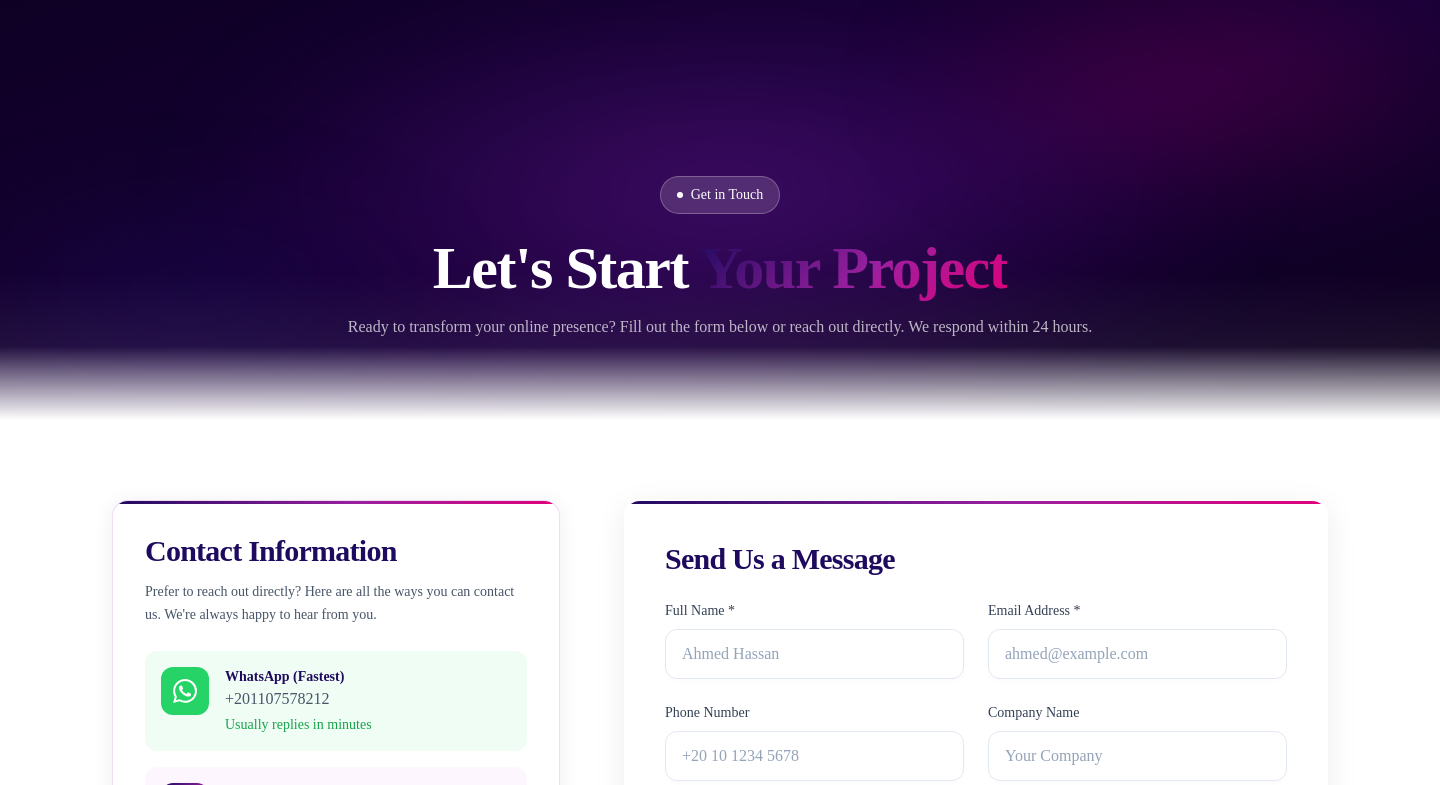
Test: ContactPage client-side validation › Trap: clears a field's error as soon as the user edits that field again, before re-submitting
Type "K" into the field labelled "Full Name *". click: [814, 654]
box: [665,629,964,679]
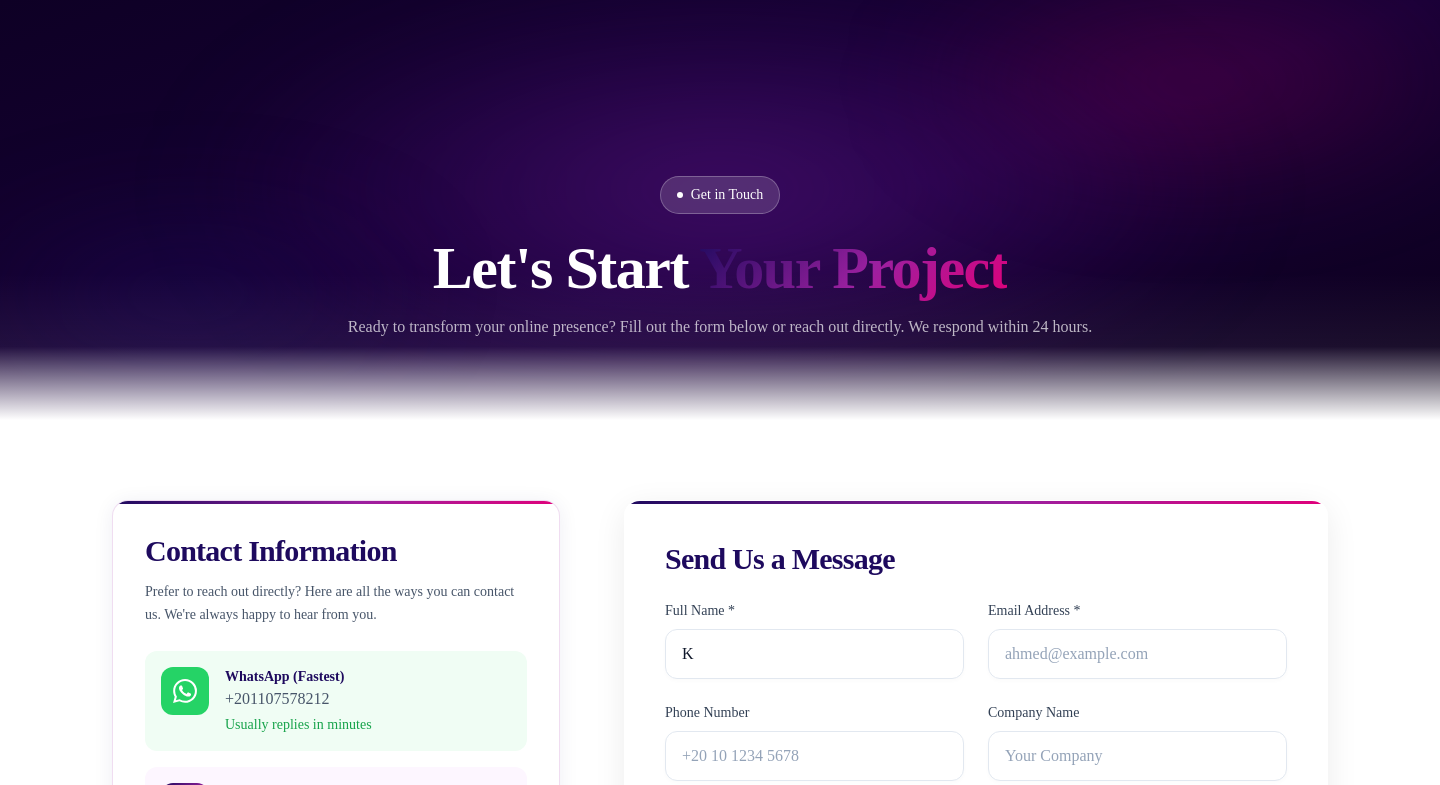
Type "karim@example.com" into the field labelled "Email Address *". click: [1138, 654]
box: [988,629,1287,679]
(page scrolled)
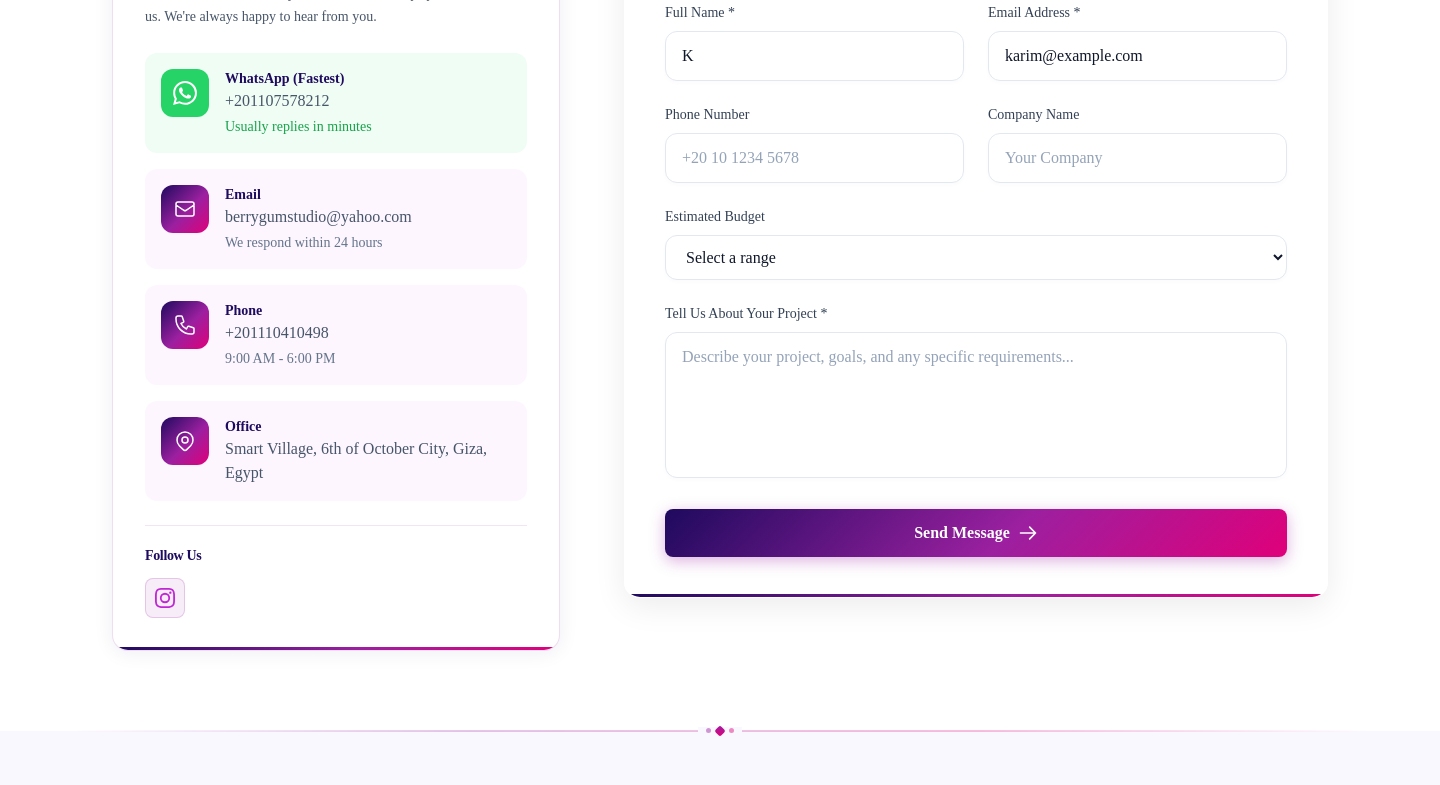
Replace the text in the text box labelled "Tell Us About Your Project *" with "I would like a quote for a new website.". click: [976, 405]
box: [665,332,1287,478]
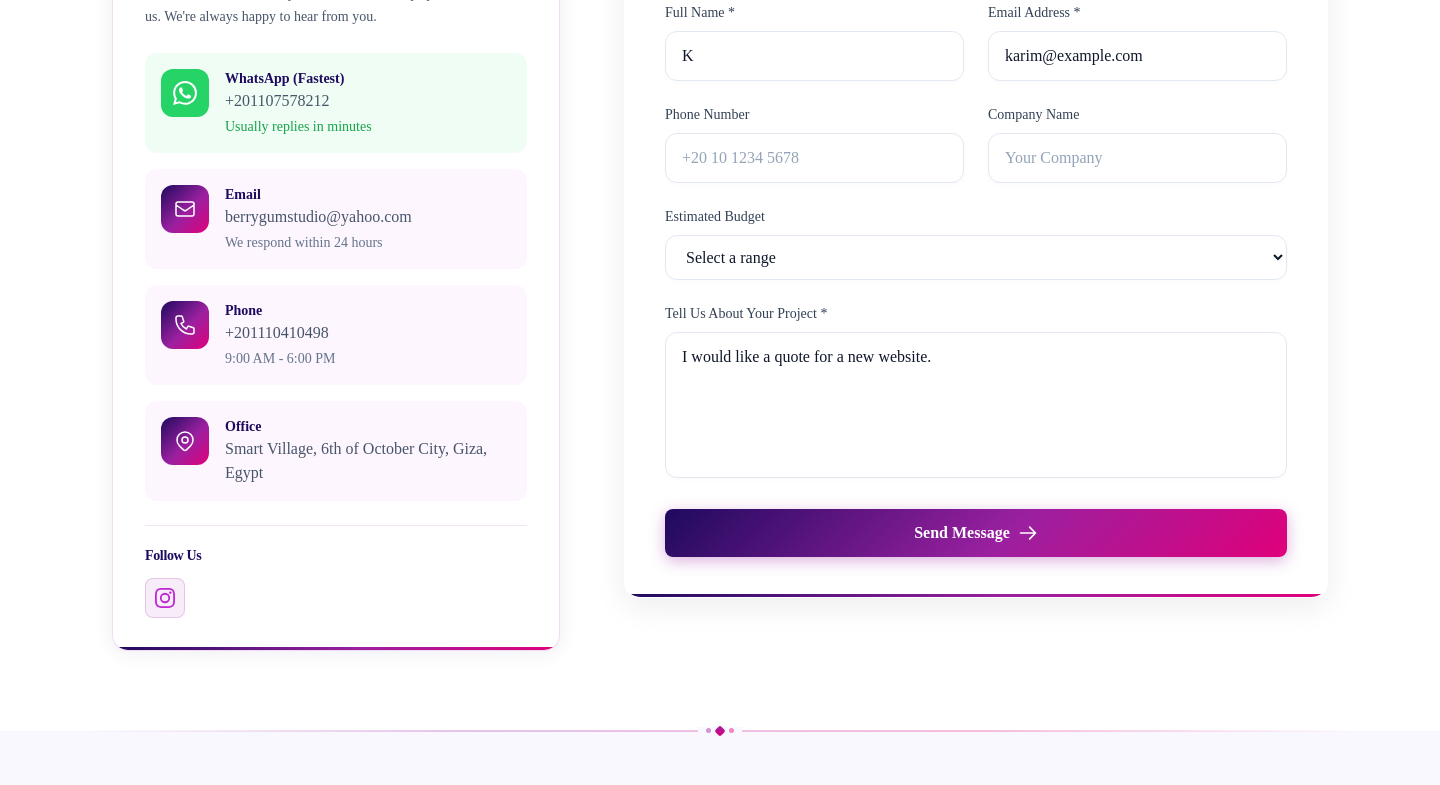
Click the button "Send Message". click: [976, 533]
box: [665,509,1287,557]
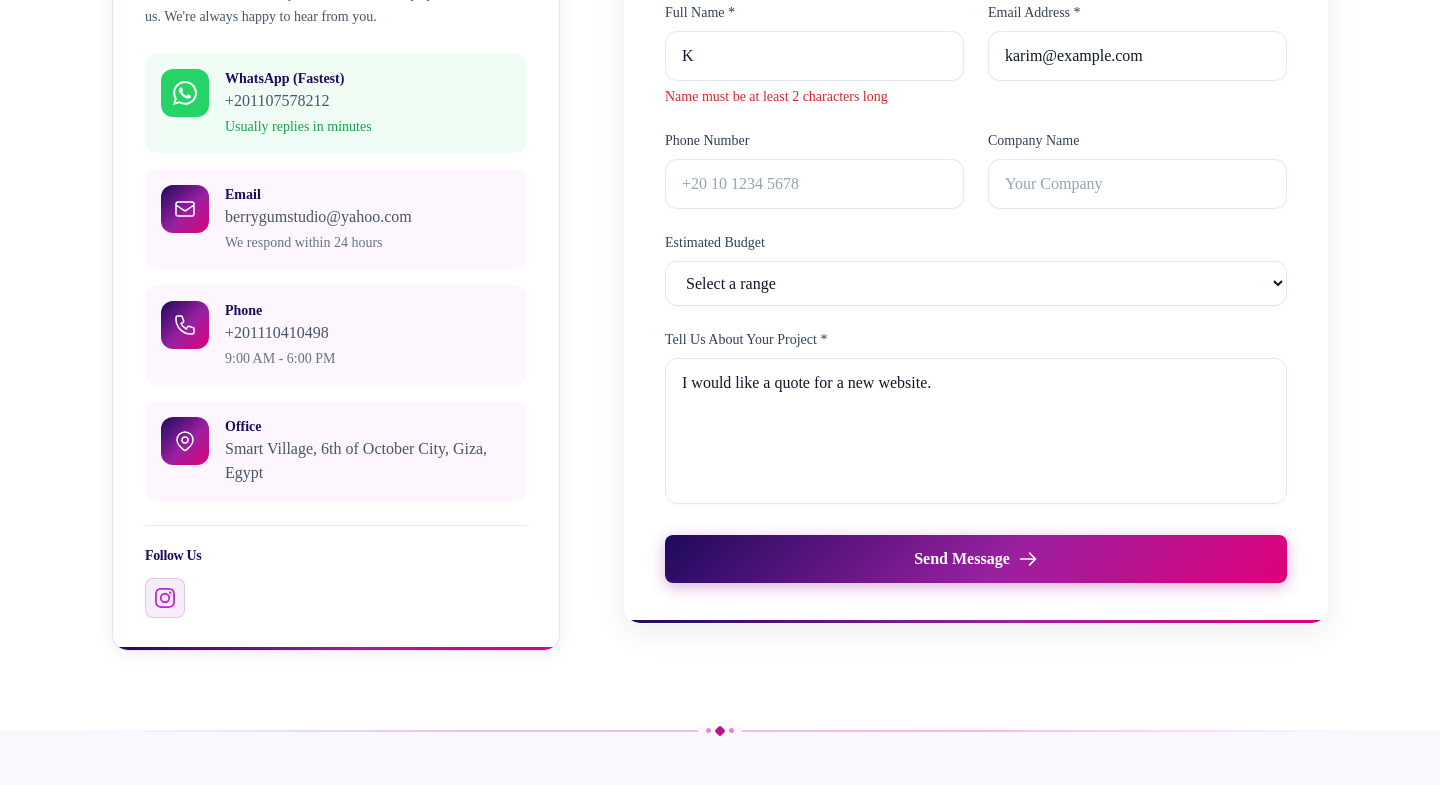
Expected: the text "Name must be at least 2 characters long" is shown, [665,89,888,104]
Replace the text in the field labelled "Full Name *" with "Karim". click: [814, 56]
box: [665,31,964,81]
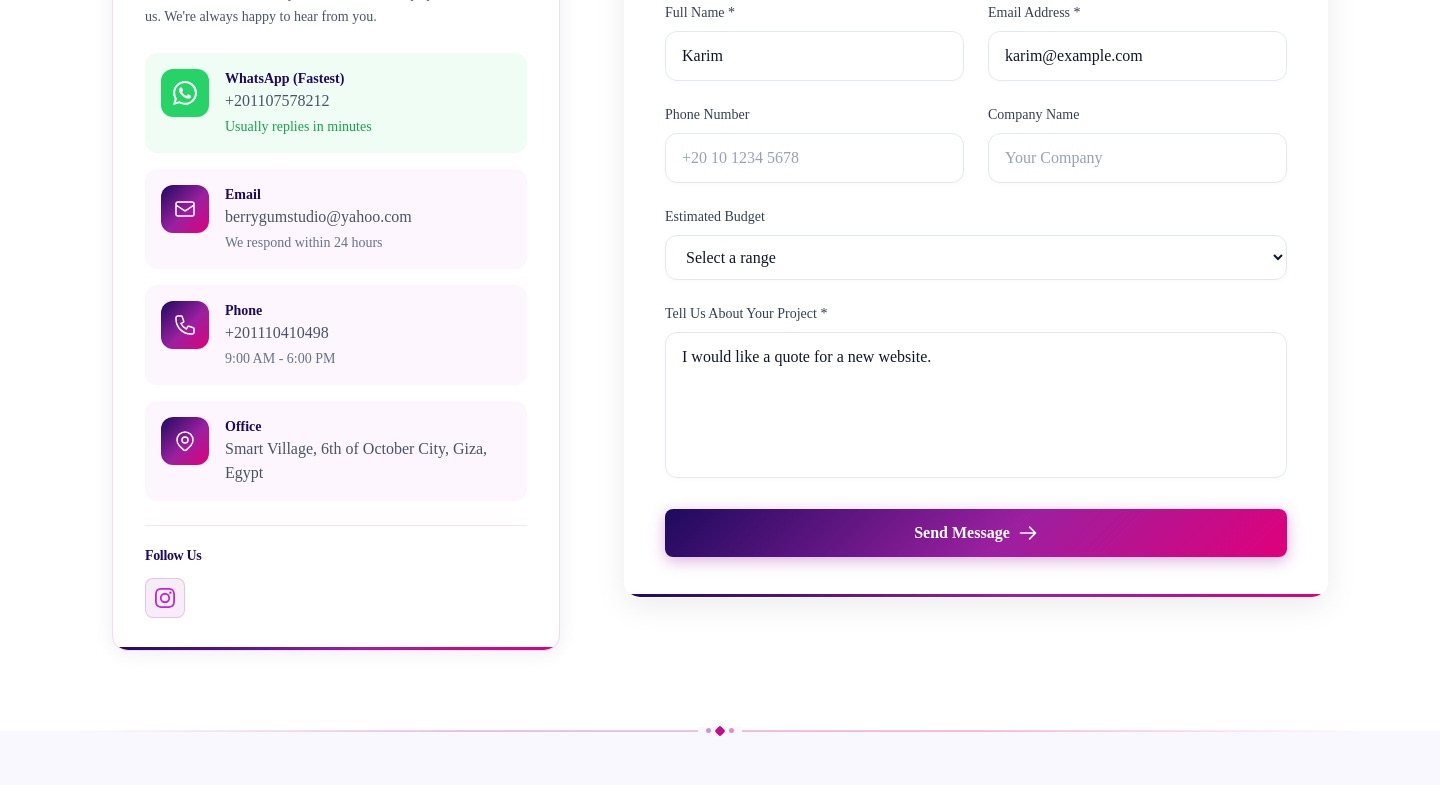
Expected: the text "Name must be at least 2 characters long" is gone
